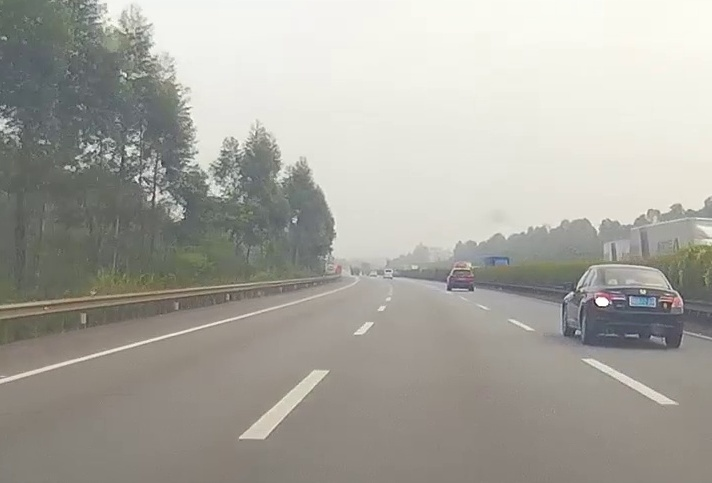L_light: (593, 292, 625, 306)
R_light: (658, 295, 683, 308)
T_light: (629, 267, 643, 271)
day-left: (590, 265, 683, 348)
